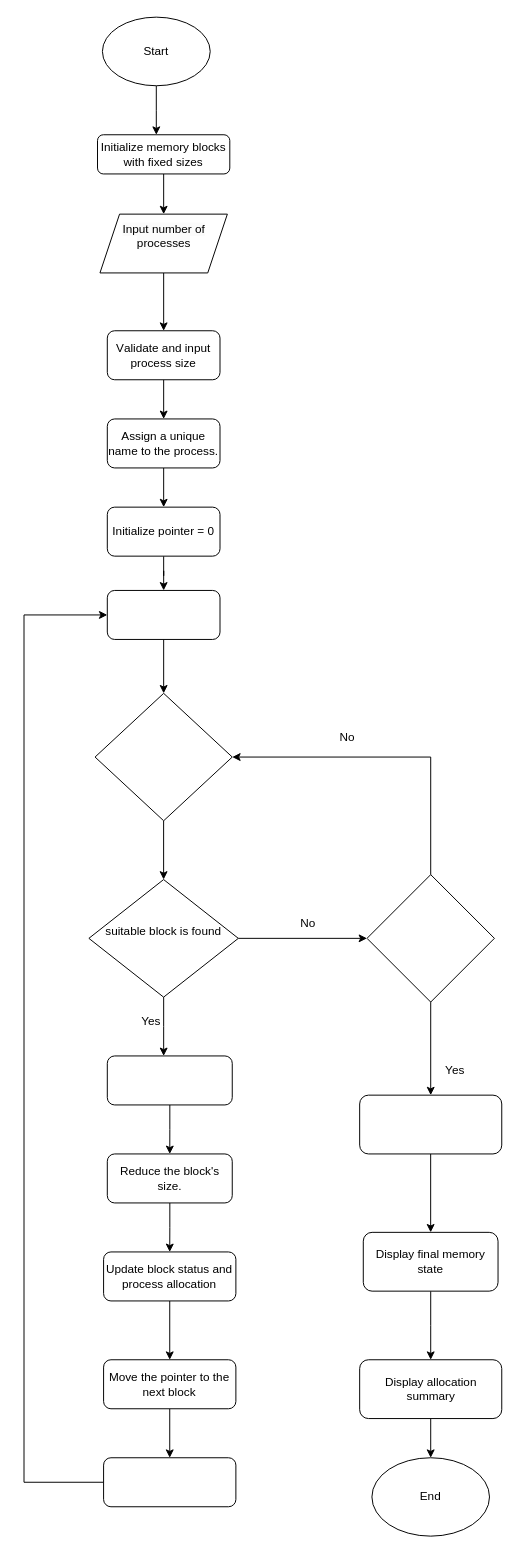
Image size: 519x1553. Some labels were removed from this diagram. The shapes that lost their labels are listed below. From the top down, each one's box as (x1, y1, x2, y2) in pixels, then its label:
(106, 589, 220, 639): For each process
(94, 692, 232, 821): Searching for a block from `pointer`
(366, 874, 494, 1002): Full Traversal Complete?
(106, 1055, 232, 1105): Allocate memory to the process
(359, 1094, 502, 1154): Report Allocation Failure
(103, 1457, 236, 1507): Display Intermediate Memory State
